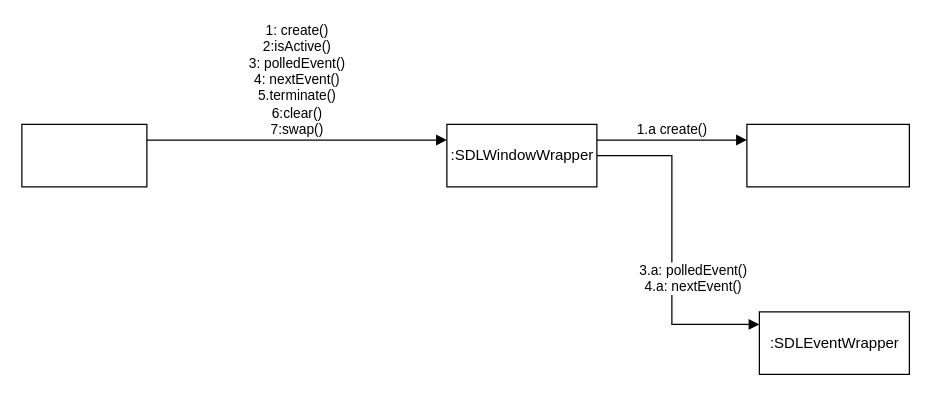
Some shapes in this 931 by 396 pixel diagram are drawn without their labels. The centre of each missing label's shape, as x and y in pixels:
:[MainObj]: the point at 84,155
:SDLGLContextWrapper: the point at 827,155
